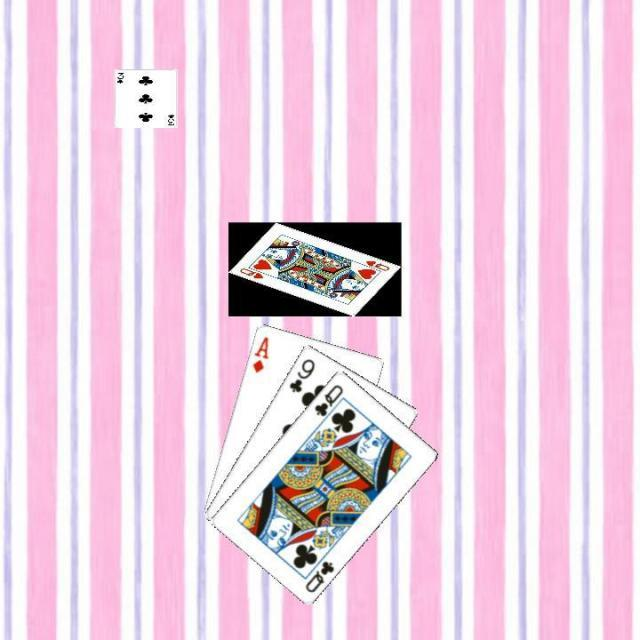9C: (286, 354, 316, 394)
AD: (248, 332, 270, 374)
QC: (310, 380, 345, 418), (301, 556, 336, 594)
